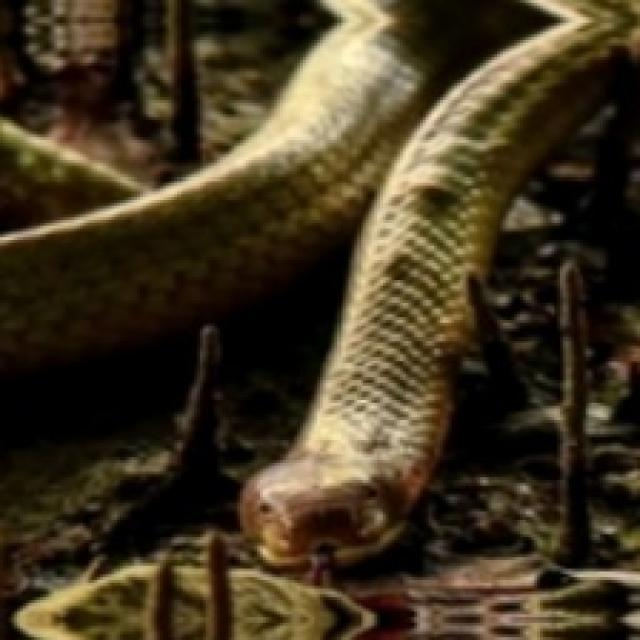king cobra: (0, 0, 637, 560), (240, 0, 637, 563)
